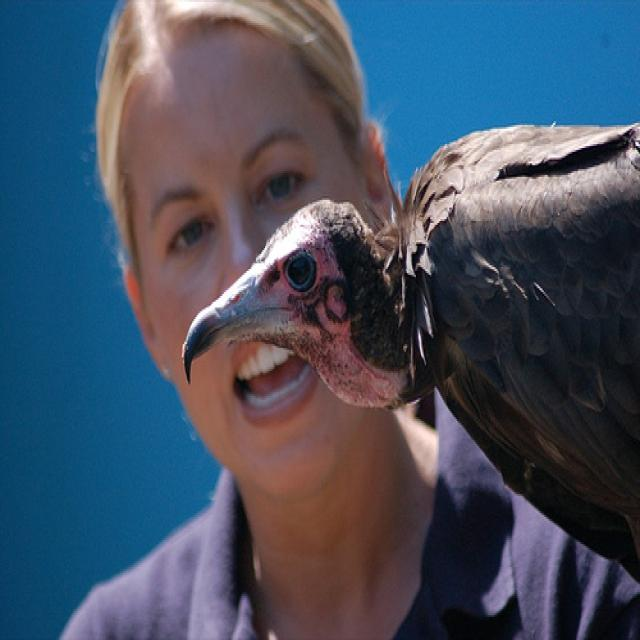bird: (169, 113, 640, 589)
person: (46, 1, 640, 639)
